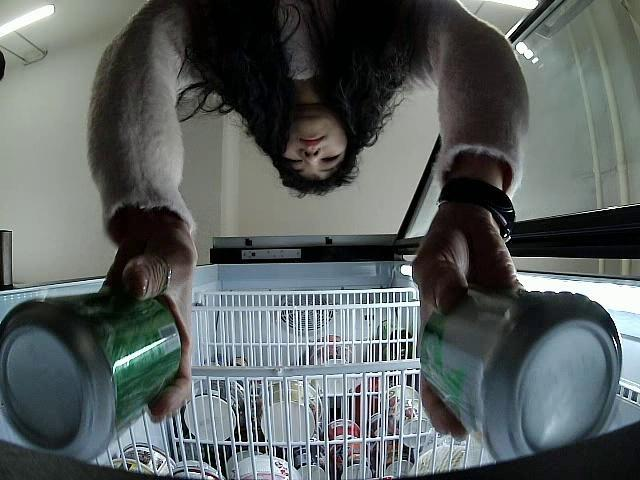12_chilsungCider: (417, 287, 620, 468), (0, 290, 184, 461)
